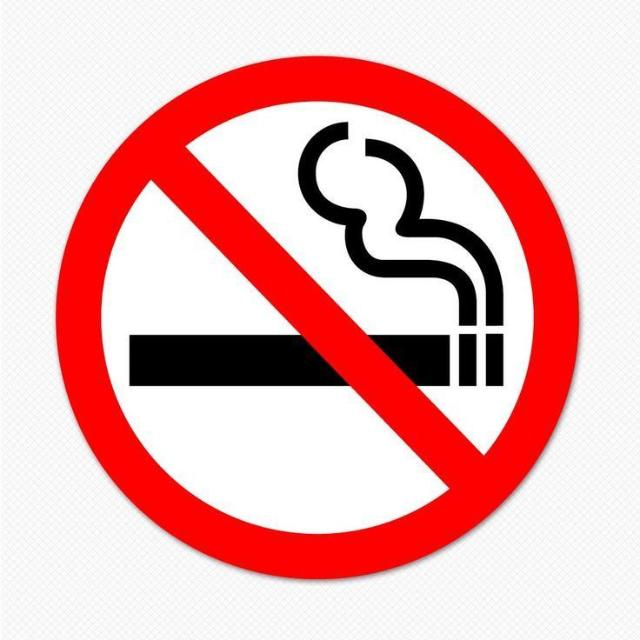cam hut thuoc: (57, 57, 577, 577)
